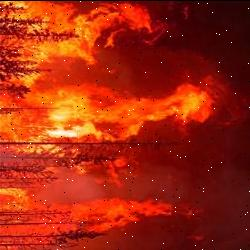fire: (0, 2, 224, 250)
